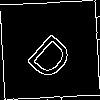D: (24, 24, 82, 84)
